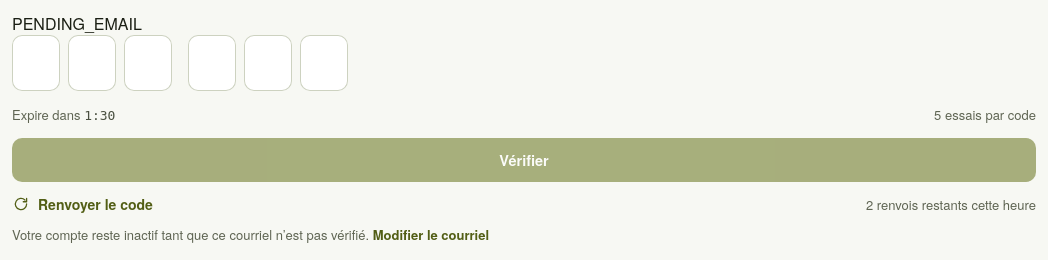
AUTH-14, AUTH-17 : vérification du courriel › AUTH-14 : chaque chiffre fait avancer le focus ; « Vérifier » attend les six
Click the field named "Code de vérification — 1/6".
click(36, 63)  # box [12,35,60,91]
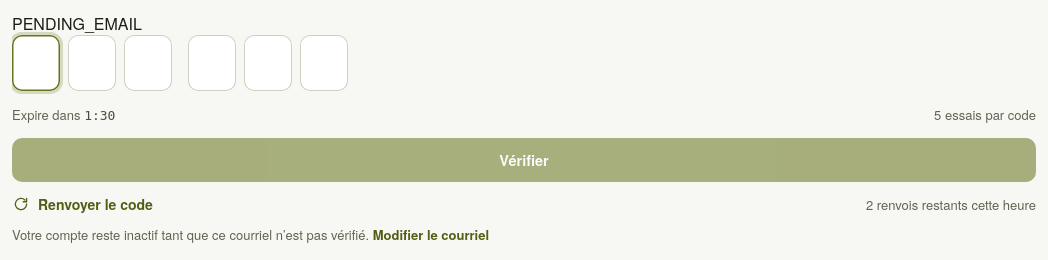
Type keys "50327"
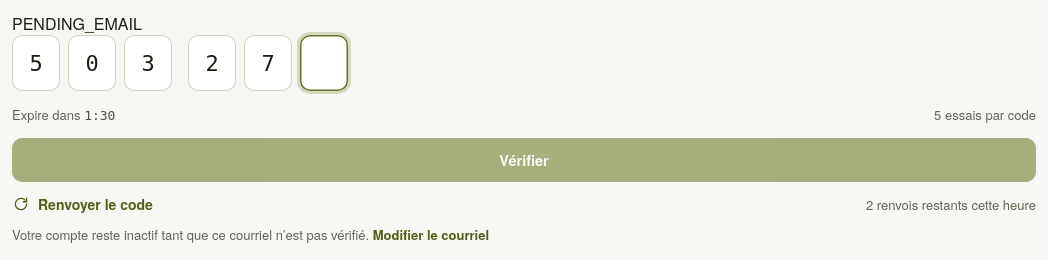
expect the button "Vérifier" is disabled: met, box [12,138,1036,182]
Type keys "1"
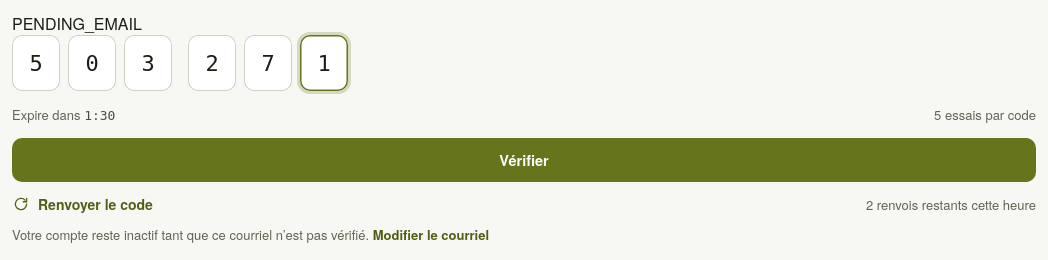
expect the button "Vérifier" is enabled: met, box [12,138,1036,182]
